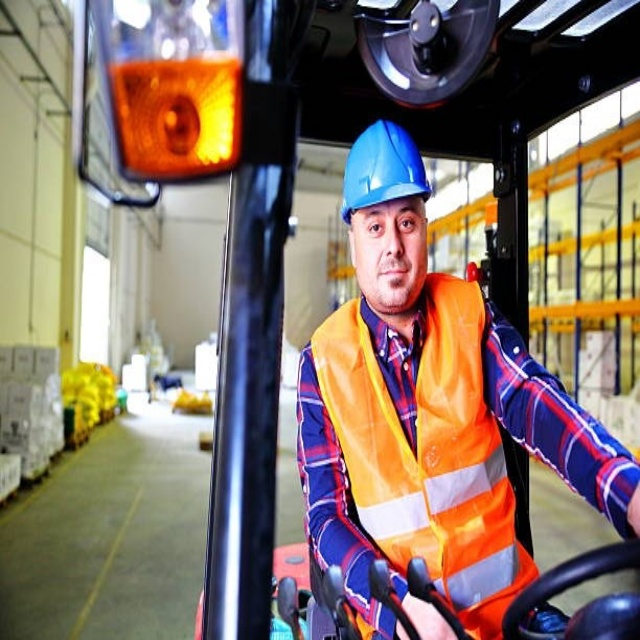Sin_gafas: (361, 204, 422, 245)
Sin_mascara: (374, 259, 413, 298)
